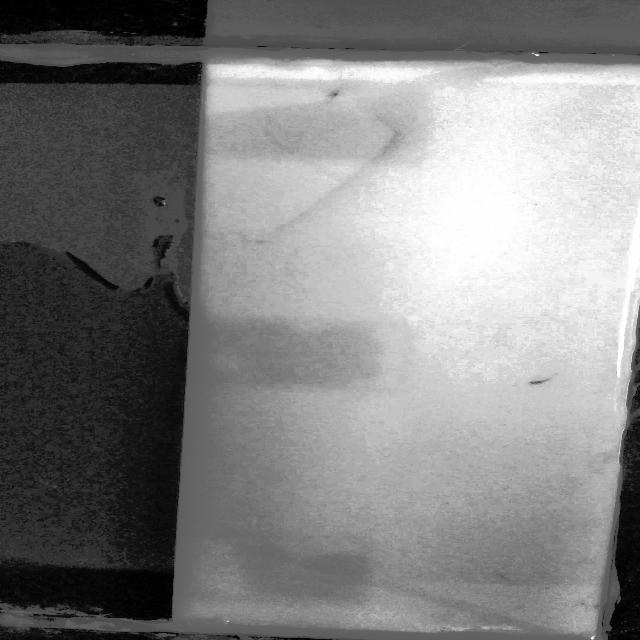shrimp: (319, 82, 348, 100), (522, 376, 556, 390), (496, 568, 518, 584)
